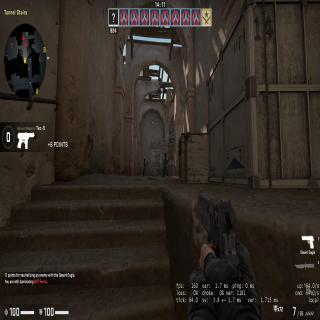CT-Body: (162, 150, 170, 175), (142, 157, 147, 174)
CT-Head: (164, 151, 167, 156), (144, 157, 146, 161)
